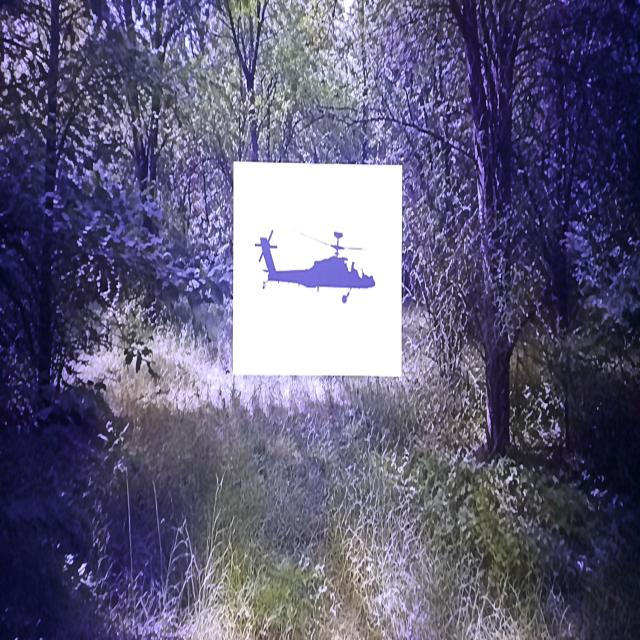Apache friendly: (256, 230, 374, 302)
